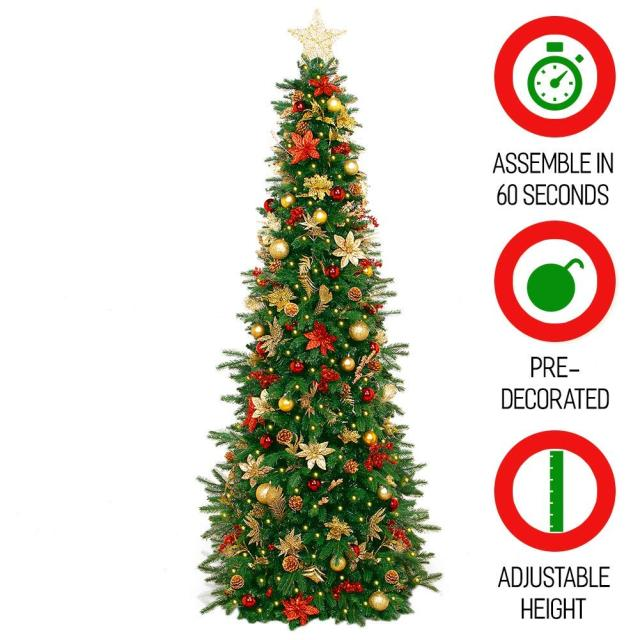Christmas-tree: (182, 2, 456, 633)
